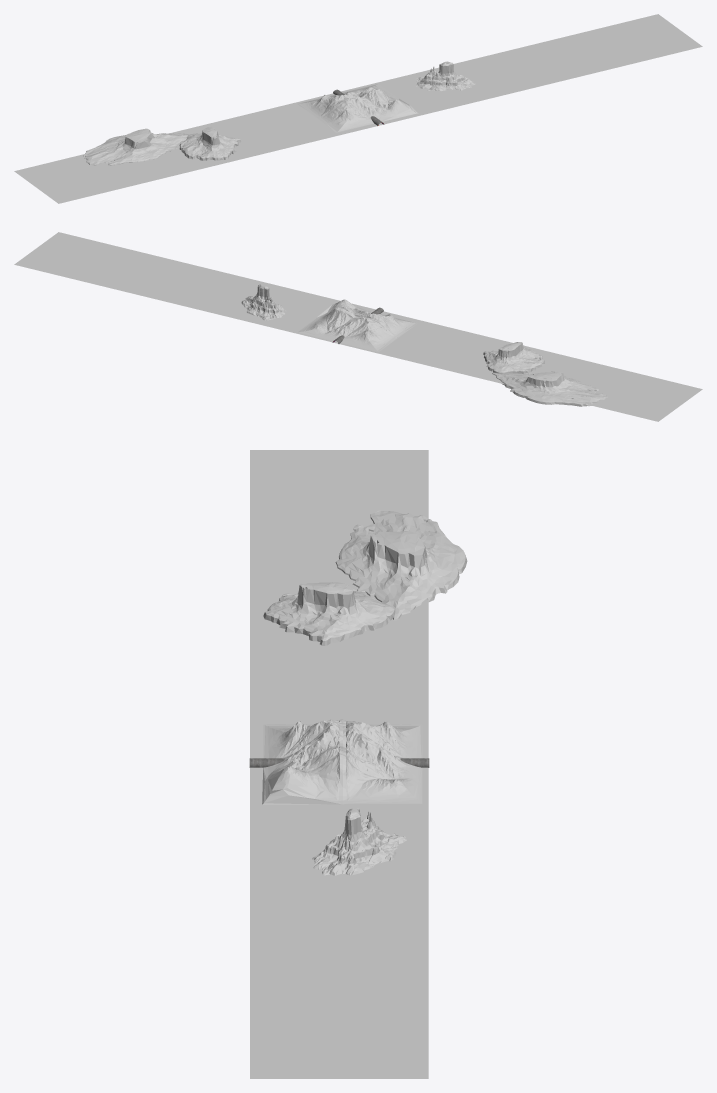
The model's file is Rock_relis_for.FBX.
The picture shows the model from 3 angles, top to bottom: view 1: azimuth 30°, elevation 25°; view 2: azimuth 150°, elevation 25°; view 3: azimuth 270°, elevation 25°; orthographic projection. The views are drawn at different scales.
Parts seen in each view (by area): view 1: grunt002, Plane012, Plane021, Plane019, Plane020; view 2: grunt002, Plane012, Plane021, Plane019, Plane020; view 3: grunt002, Plane012, Plane021, Plane019, Plane020.
Boxes of the visible parts, x1,y1,x2,y2 form: grunt002: (14, 14, 702, 203); Plane012: (297, 84, 418, 132); Plane021: (83, 128, 189, 165); Plane019: (179, 126, 241, 160); Plane020: (416, 61, 475, 91); grunt002: (14, 232, 702, 421); Plane012: (298, 299, 417, 351); Plane021: (492, 371, 607, 406); Plane019: (483, 342, 544, 373); Plane020: (241, 284, 286, 320); grunt002: (250, 450, 428, 1078); Plane012: (262, 719, 422, 804); Plane021: (335, 510, 467, 620); Plane019: (263, 582, 395, 645); Plane020: (312, 807, 406, 875).
Bounding box in the file's own units: 5000 × 732 × 171.
